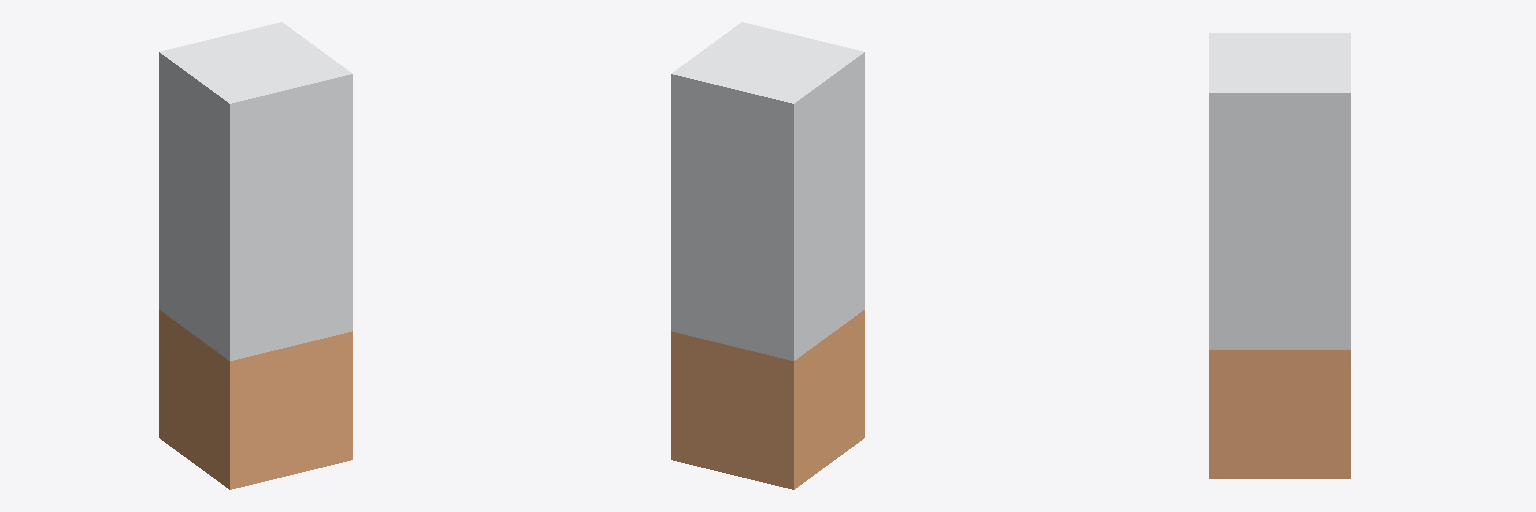
The picture shows the model from 3 angles: view 1: azimuth 30°, elevation 25°; view 2: azimuth 150°, elevation 25°; view 3: azimuth 270°, elevation 25°; orthographic projection.
Visible parts, largest first — view 1: object 1; view 2: object 1; view 3: object 1.
Boxes of the visible parts, x1,y1,x2,y2 form: object 1: [159, 22, 352, 489]; object 1: [671, 22, 864, 489]; object 1: [1209, 33, 1350, 478].
Size of the model in its own units: 0.1 by 0.3 by 0.1.
1 materials, 1 textured.